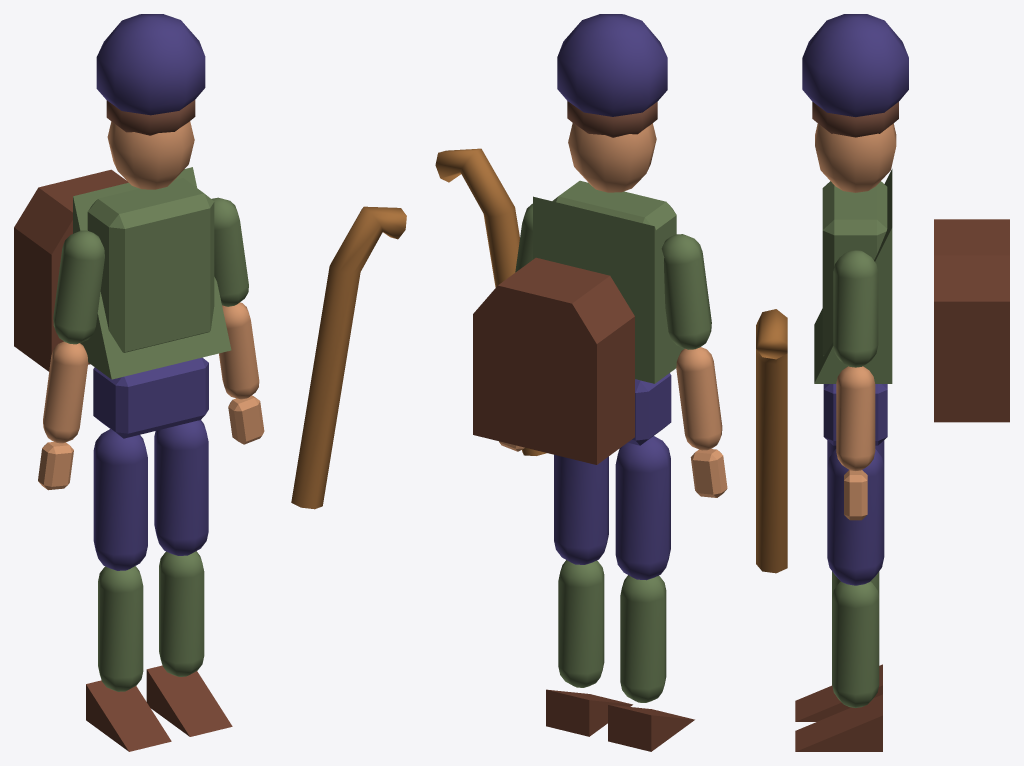
The model's file is adventurer.rustic.glb.
The picture shows the model from 3 angles, left to right: view 1: azimuth 30°, elevation 25°; view 2: azimuth 150°, elevation 25°; view 3: azimuth 270°, elevation 25°; orthographic projection.
Visible parts, largest first — view 1: torso, accessory.main-hand, accessory.head, accessory.back, thigh.left, pelvis, thigh.right, tunic, shin.left, shin.right, upper-arm.left, head (+8 smaller); view 2: accessory.back, tunic, accessory.head, thigh.left, shin.right, shin.left, thigh.right, accessory.main-hand, upper-arm.left, head, forearm.left, torso (+6 smaller); view 3: accessory.back, accessory.head, accessory.main-hand, thigh.right, shin.right, torso, upper-arm.right, head, tunic, forearm.right, foot.right, hair (+3 smaller).
Boxes of the visible parts, box(x1,y1,x2,y2) form: torso: box(87, 178, 214, 352); accessory.main-hand: box(291, 206, 406, 509); accessory.head: box(96, 14, 205, 115); accessory.back: box(14, 169, 128, 371); thigh.left: box(93, 429, 147, 570); pelvis: box(93, 357, 208, 438); thigh.right: box(154, 420, 208, 555); tunic: box(73, 167, 231, 379); shin.left: box(98, 566, 143, 691); shin.right: box(159, 551, 204, 676); upper-arm.left: box(53, 230, 104, 344); head: box(107, 121, 194, 189); accessory.back: box(473, 257, 634, 464); tunic: box(533, 196, 684, 383); accessory.head: box(557, 14, 667, 116); thigh.left: box(615, 436, 670, 580); shin.right: box(558, 560, 604, 687); shin.left: box(620, 575, 666, 702); thigh.right: box(554, 454, 608, 564); accessory.main-hand: box(435, 148, 546, 455); upper-arm.left: box(661, 234, 711, 349); head: box(568, 123, 656, 192); forearm.left: box(676, 347, 722, 450); torso: box(552, 180, 676, 248); accessory.back: box(934, 219, 1009, 422); accessory.head: box(802, 14, 908, 117); accessory.main-hand: box(756, 309, 787, 573); thigh.right: box(827, 449, 884, 585); shin.right: box(832, 581, 879, 707); torso: box(822, 181, 887, 355); upper-arm.right: box(833, 250, 878, 367); head: box(815, 123, 896, 192); tunic: box(814, 169, 892, 383); forearm.right: box(836, 366, 875, 470); foot.right: box(795, 694, 882, 751); hair: box(812, 102, 898, 137).
Size of the model in its own units: 1.58 by 3.29 by 1.07.
